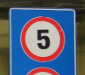speed_limit_5: (8, 7, 76, 75)
